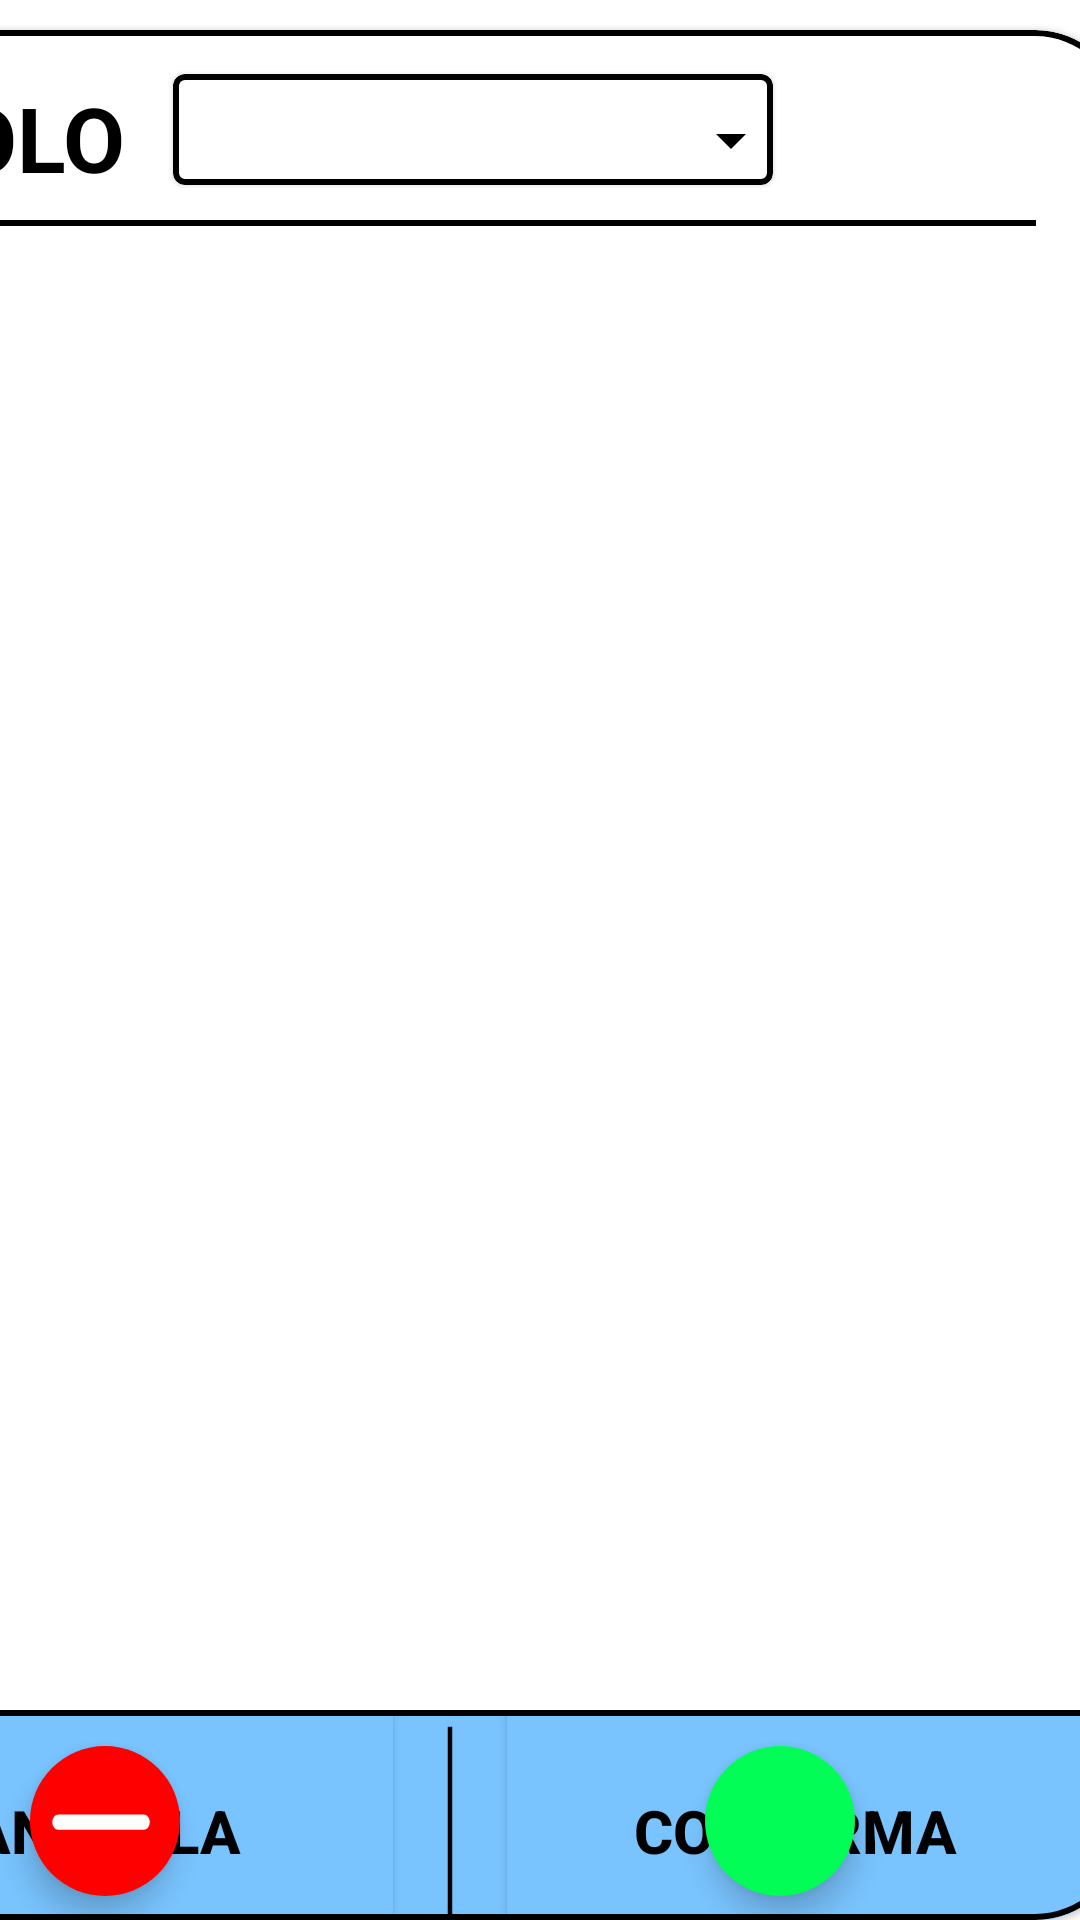

Named icons in this screenshot (1080 x 1920) and their bounding boxes, bbox=(x1, y1, x2, y2):
minus: bbox=(30, 1746, 180, 1896)
